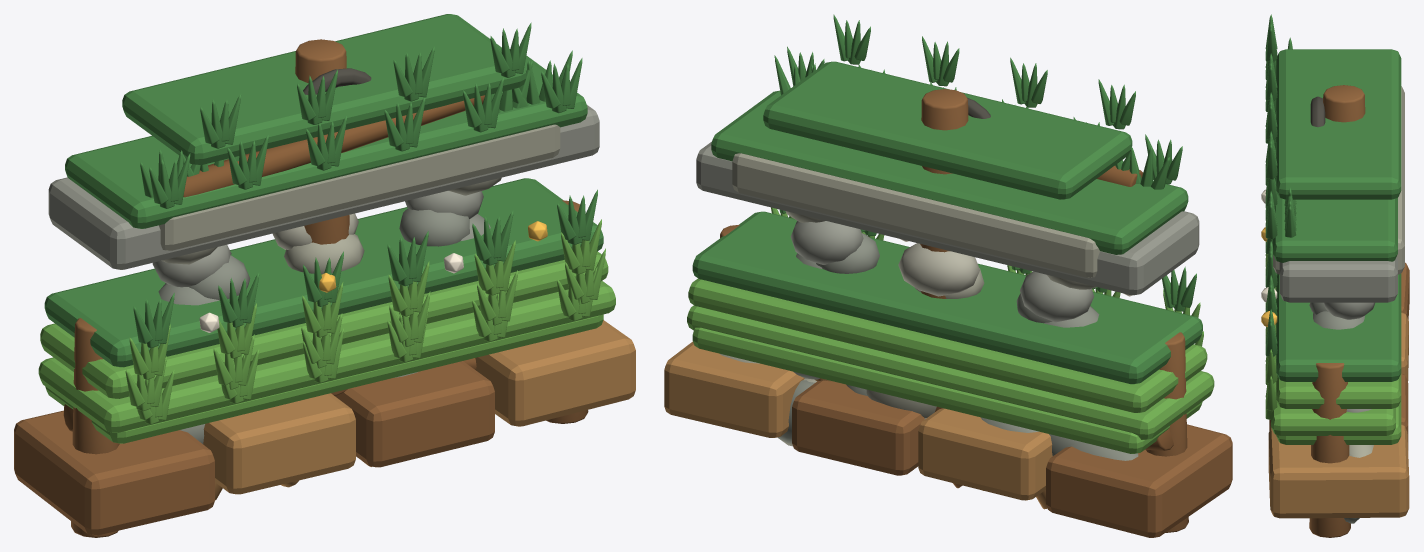
Rendered from verdant_vale_terrain_kit.glb.
The picture shows the model from 3 angles, left to right: view 1: azimuth 30°, elevation 25°; view 2: azimuth 150°, elevation 25°; view 3: azimuth 270°, elevation 25°; orthographic projection. The views are drawn at different scales.
Parts seen in each view (by area): view 1: TerrainKit_CampFoundation_CombinedMesh, TerrainKit_BridgeAbutment_CombinedMesh, TerrainKit_RuinFoundation_CombinedMesh, TerrainKit_RootBank_CombinedMesh, TerrainKit_MillRace_CombinedMesh, TerrainKit_OverlookEdge_CombinedMesh, TerrainKit_CompactedEdge_CombinedMesh; view 2: TerrainKit_CampFoundation_CombinedMesh, TerrainKit_RuinFoundation_CombinedMesh, TerrainKit_BridgeAbutment_CombinedMesh, TerrainKit_RootBank_CombinedMesh, TerrainKit_MillRace_CombinedMesh, TerrainKit_OverlookEdge_CombinedMesh, TerrainKit_CompactedEdge_CombinedMesh; view 3: TerrainKit_BridgeAbutment_CombinedMesh, TerrainKit_CampFoundation_CombinedMesh, TerrainKit_RuinFoundation_CombinedMesh, TerrainKit_RootBank_CombinedMesh, TerrainKit_OverlookEdge_CombinedMesh, TerrainKit_MillRace_CombinedMesh, TerrainKit_CompactedEdge_CombinedMesh.
Boxes of the visible parts, x1,y1,x2,y2 form: TerrainKit_CampFoundation_CombinedMesh: (14,200,635,537); TerrainKit_BridgeAbutment_CombinedMesh: (122,14,531,395); TerrainKit_RuinFoundation_CombinedMesh: (48,49,599,287); TerrainKit_RootBank_CombinedMesh: (44,178,603,500); TerrainKit_MillRace_CombinedMesh: (140,50,572,305); TerrainKit_OverlookEdge_CombinedMesh: (40,219,608,443); TerrainKit_CompactedEdge_CombinedMesh: (45,267,603,443); TerrainKit_CampFoundation_CombinedMesh: (664,224,1232,537); TerrainKit_RuinFoundation_CombinedMesh: (696,46,1199,322); TerrainKit_BridgeAbutment_CombinedMesh: (763,14,1135,411); TerrainKit_RootBank_CombinedMesh: (692,209,1202,509); TerrainKit_MillRace_CombinedMesh: (732,55,1169,327); TerrainKit_OverlookEdge_CombinedMesh: (688,207,1207,455); TerrainKit_CompactedEdge_CombinedMesh: (692,327,1202,460); TerrainKit_BridgeAbutment_CombinedMesh: (1265,14,1401,314); TerrainKit_CampFoundation_CombinedMesh: (1265,219,1409,537); TerrainKit_RuinFoundation_CombinedMesh: (1265,60,1397,412); TerrainKit_RootBank_CombinedMesh: (1265,177,1401,457); TerrainKit_OverlookEdge_CombinedMesh: (1261,189,1401,408); TerrainKit_MillRace_CombinedMesh: (1273,37,1404,329); TerrainKit_CompactedEdge_CombinedMesh: (1265,382,1401,523).
Bounding box in the file's own units: 3.01 × 2.32 × 0.8532.
